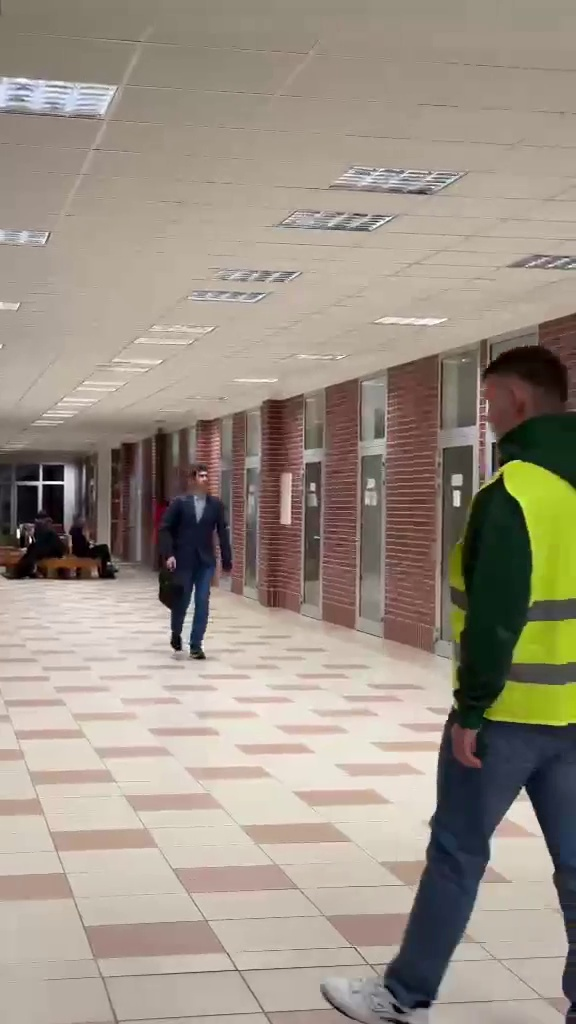no vest: (153, 462, 232, 662)
vest: (372, 349, 576, 1018)
